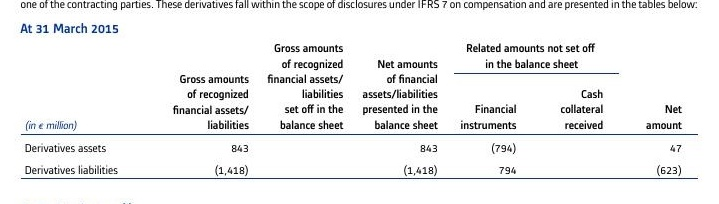table: (0, 0, 719, 204)
